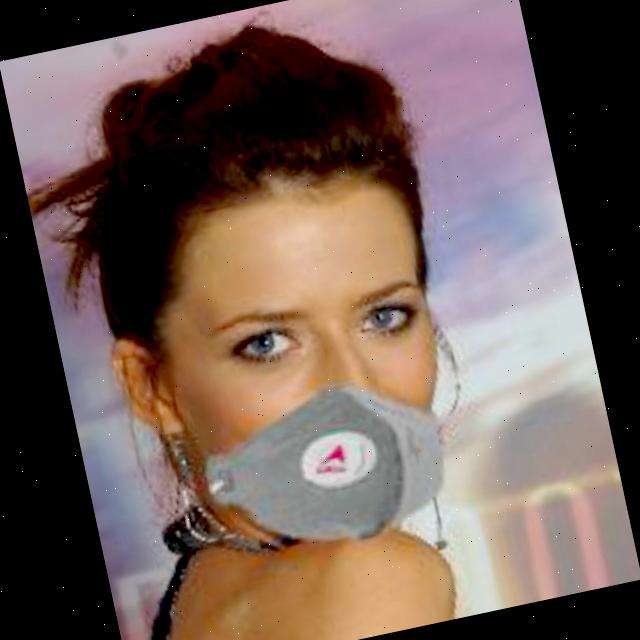suspicion: (90, 72, 490, 590)
